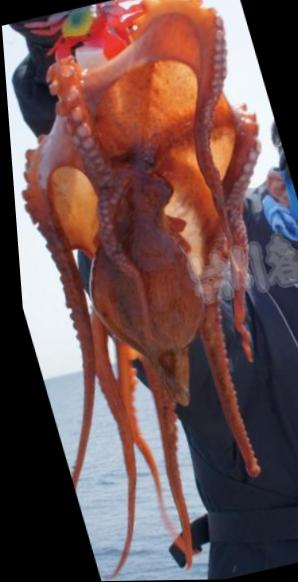Cephalopod: (19, 0, 258, 576)
